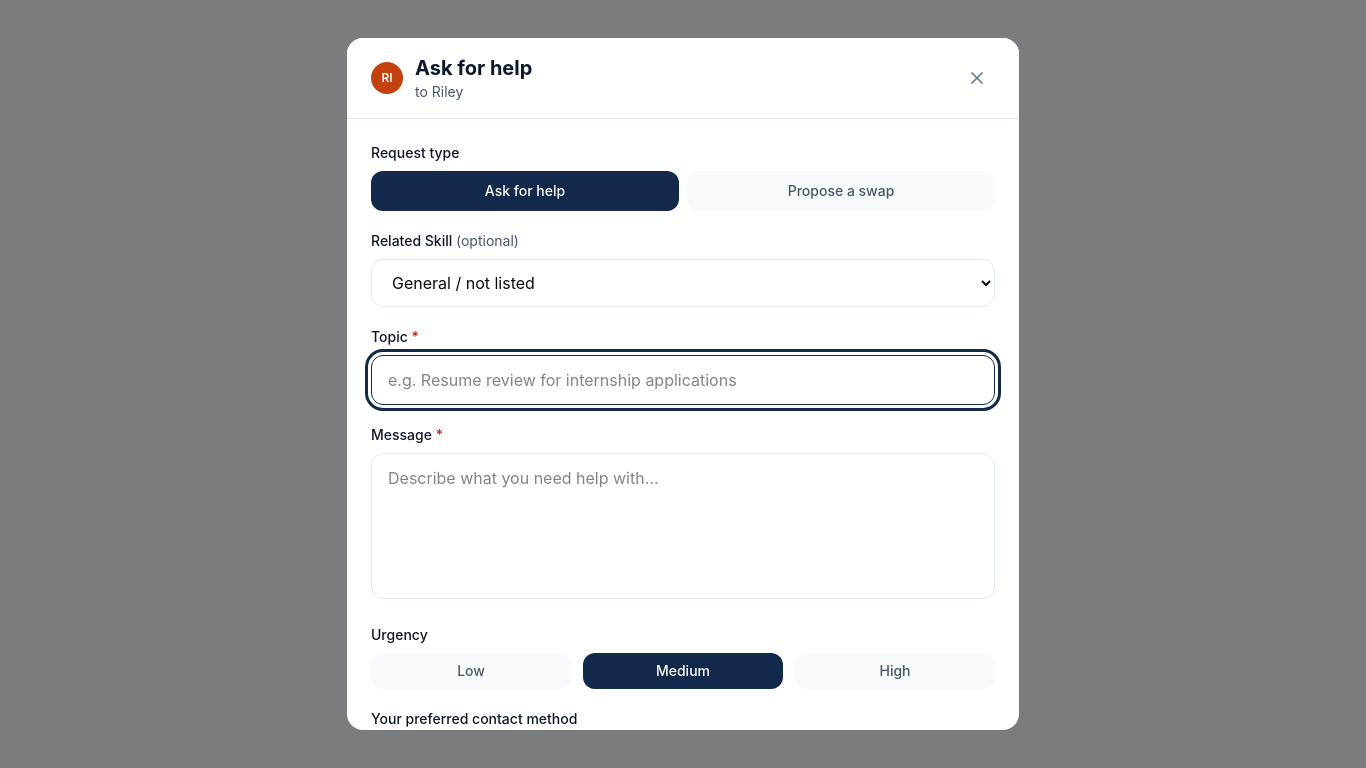
it: keeps the dialog open with an error when sending fails
Type "Resume review" into the field labelled "Topic *".
click(683, 380); type("Resume review")  # box [371, 355, 995, 405]
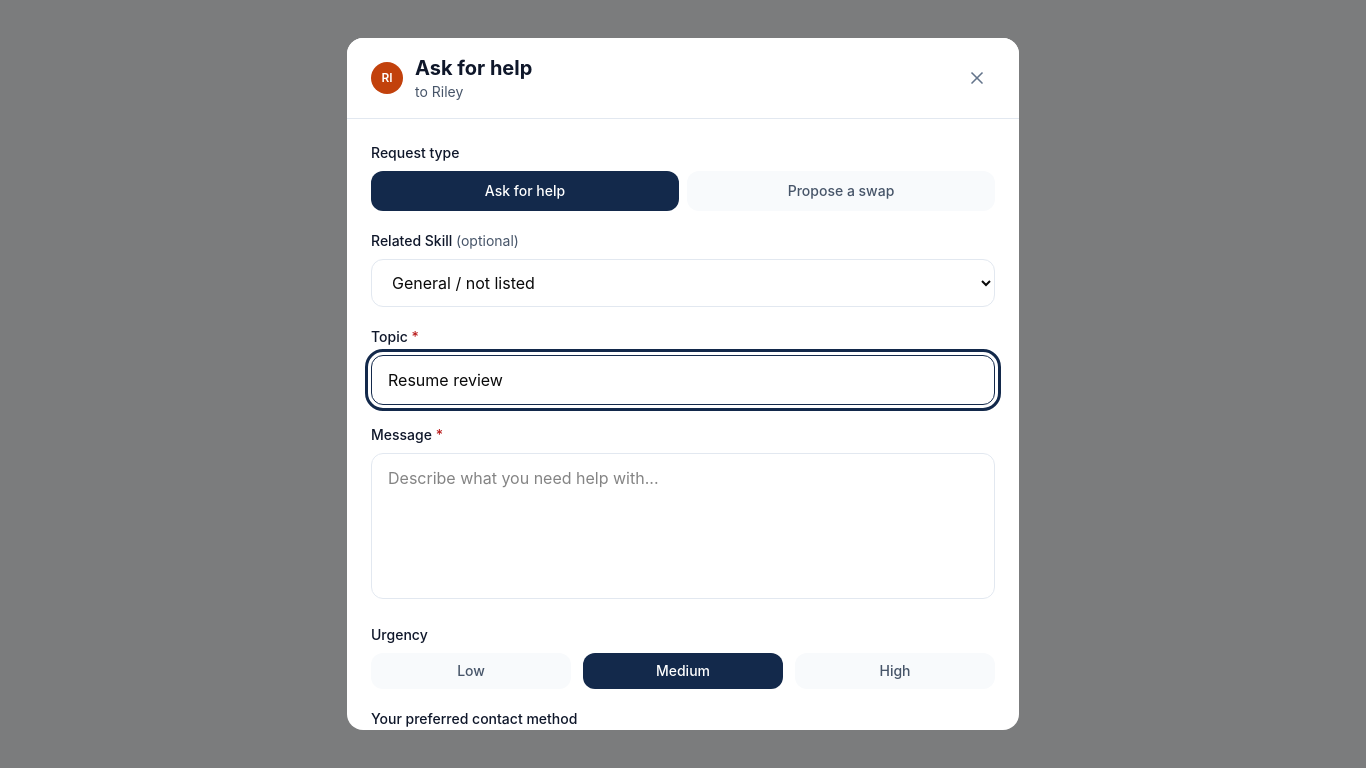
Type "Could you look at my resume?" into the text box labelled "Message *".
click(683, 526); type("Could you look at my resume?")  # box [371, 453, 995, 599]
(page scrolled)
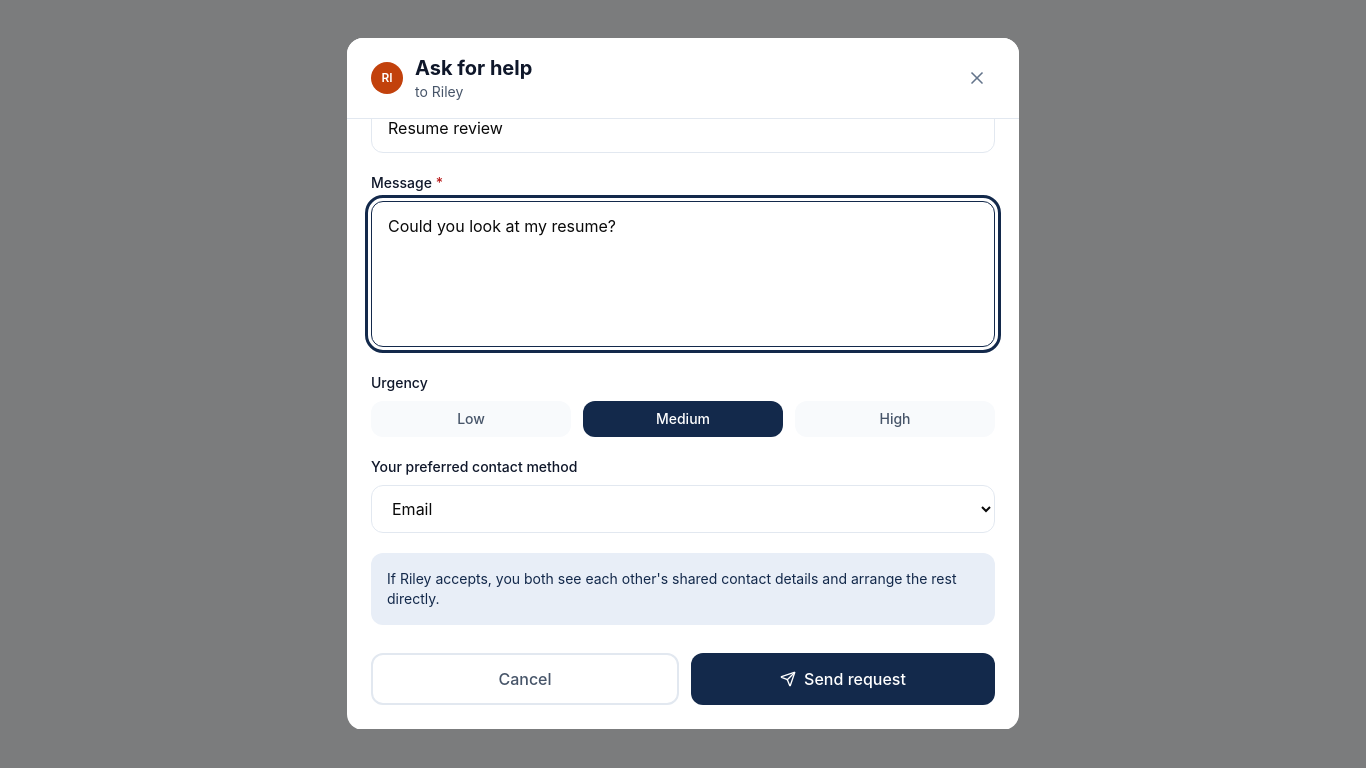
Click the button "Send request".
click(843, 679)  # box [691, 653, 995, 705]
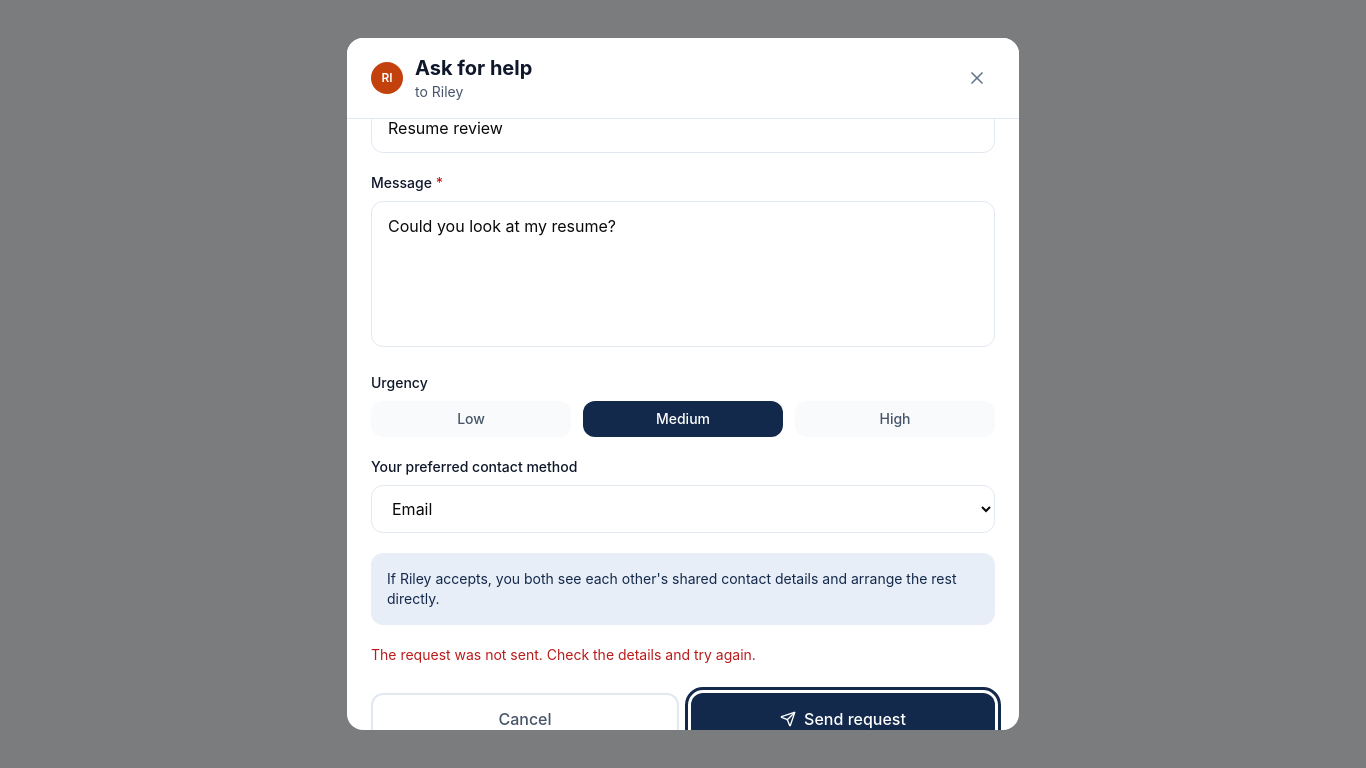
Result: the message shows "The request was not sent" at [371, 646, 756, 663]
